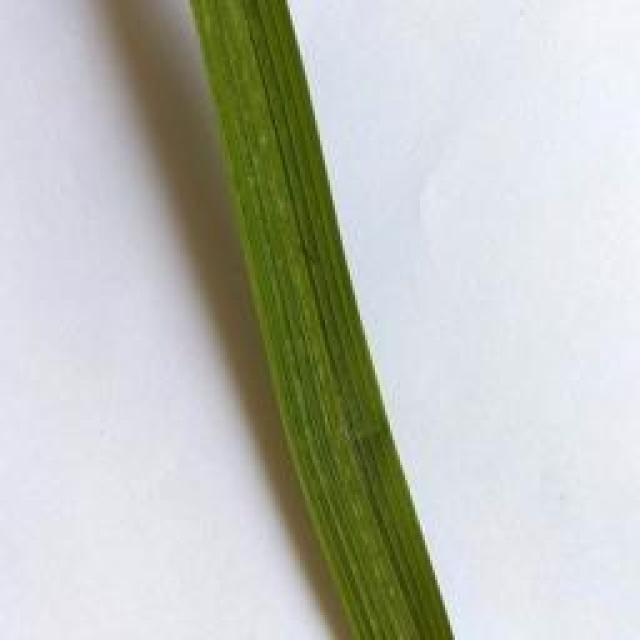Healthy-Plant: (185, 0, 458, 640)
